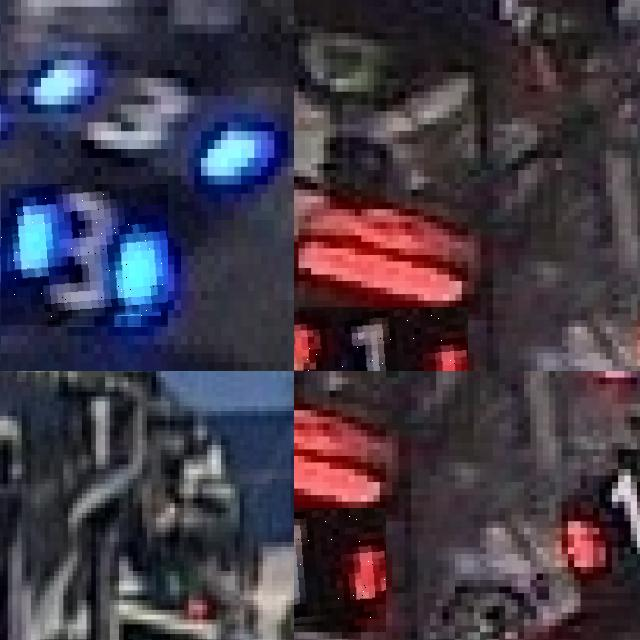B3: (1, 185, 168, 326)
R1: (294, 508, 386, 632), (294, 307, 468, 371), (561, 442, 640, 573)
